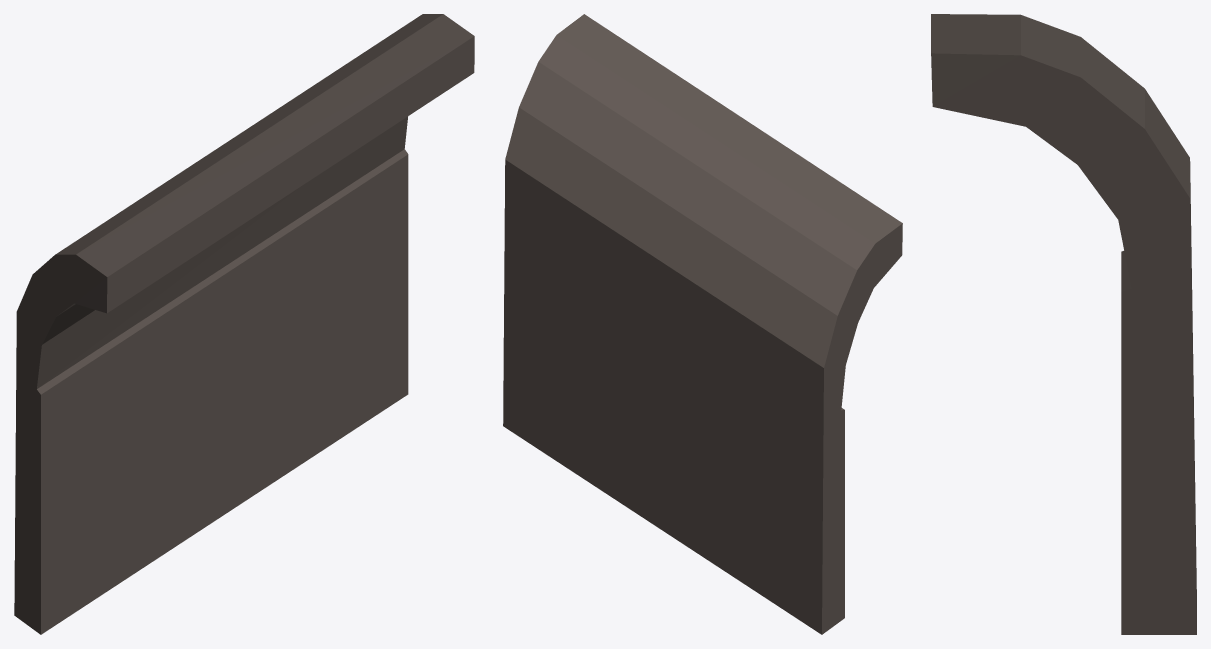
Rendered from MCastle_TunnelWalls_05.FBX.
The picture shows the model from 3 angles, left to right: view 1: azimuth 30°, elevation 25°; view 2: azimuth 150°, elevation 25°; view 3: azimuth 270°, elevation 25°; orthographic projection. The views are drawn at different scales.
Parts seen in each view (by area): view 1: MCastle_TunnelWalls_05_LOD0; view 2: MCastle_TunnelWalls_05_LOD0; view 3: MCastle_TunnelWalls_05_LOD0.
Boxes of the visible parts, <box> form: MCastle_TunnelWalls_05_LOD0: <box>14,14,474,634</box>; MCastle_TunnelWalls_05_LOD0: <box>503,14,902,634</box>; MCastle_TunnelWalls_05_LOD0: <box>931,14,1196,634</box>.
Bounding box in the file's own units: 4 × 5.8 × 1.76.
